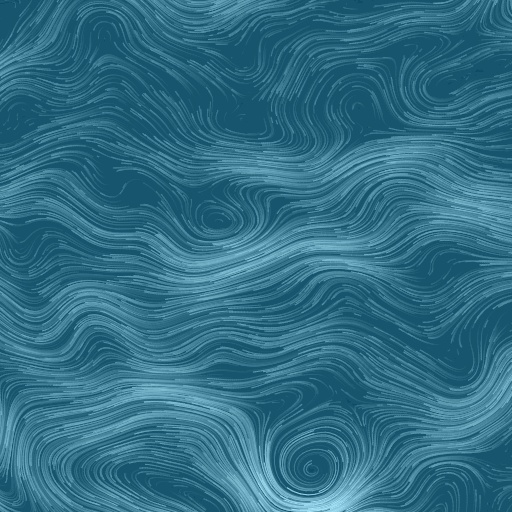eddy: (277, 424, 351, 495), (188, 198, 248, 244)
